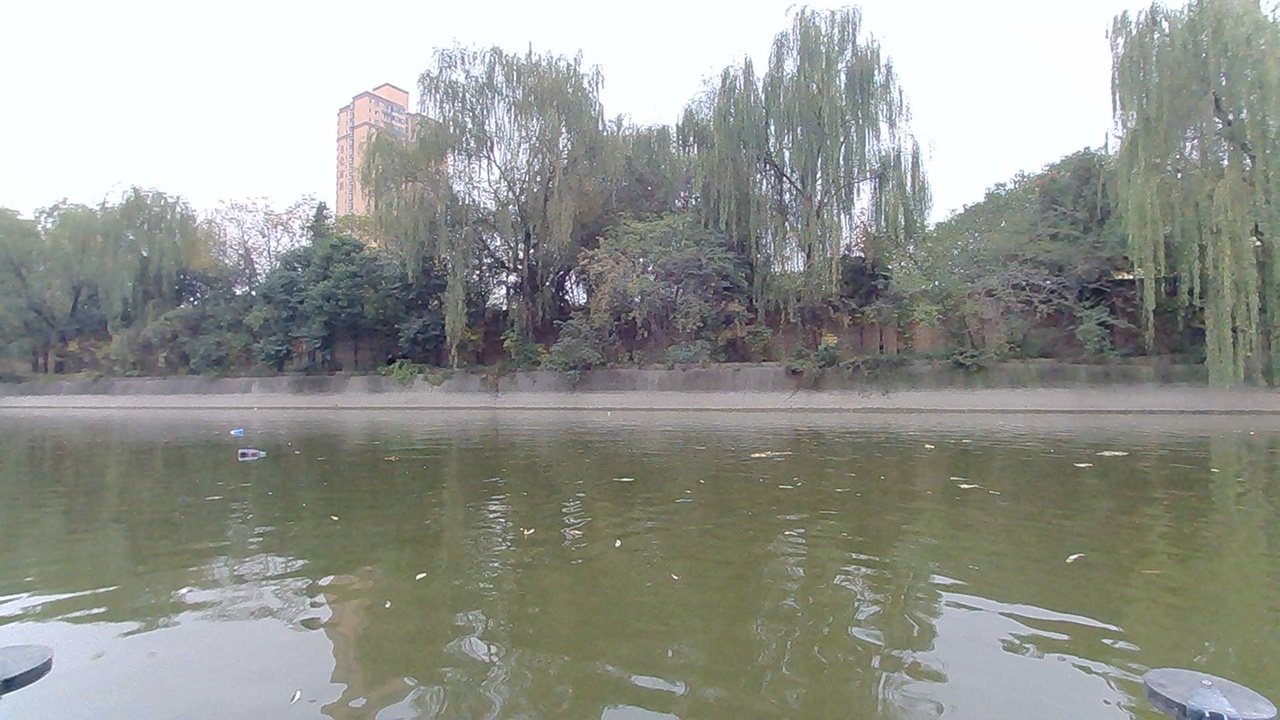bottle: (228, 439, 272, 467), (223, 418, 256, 442)
